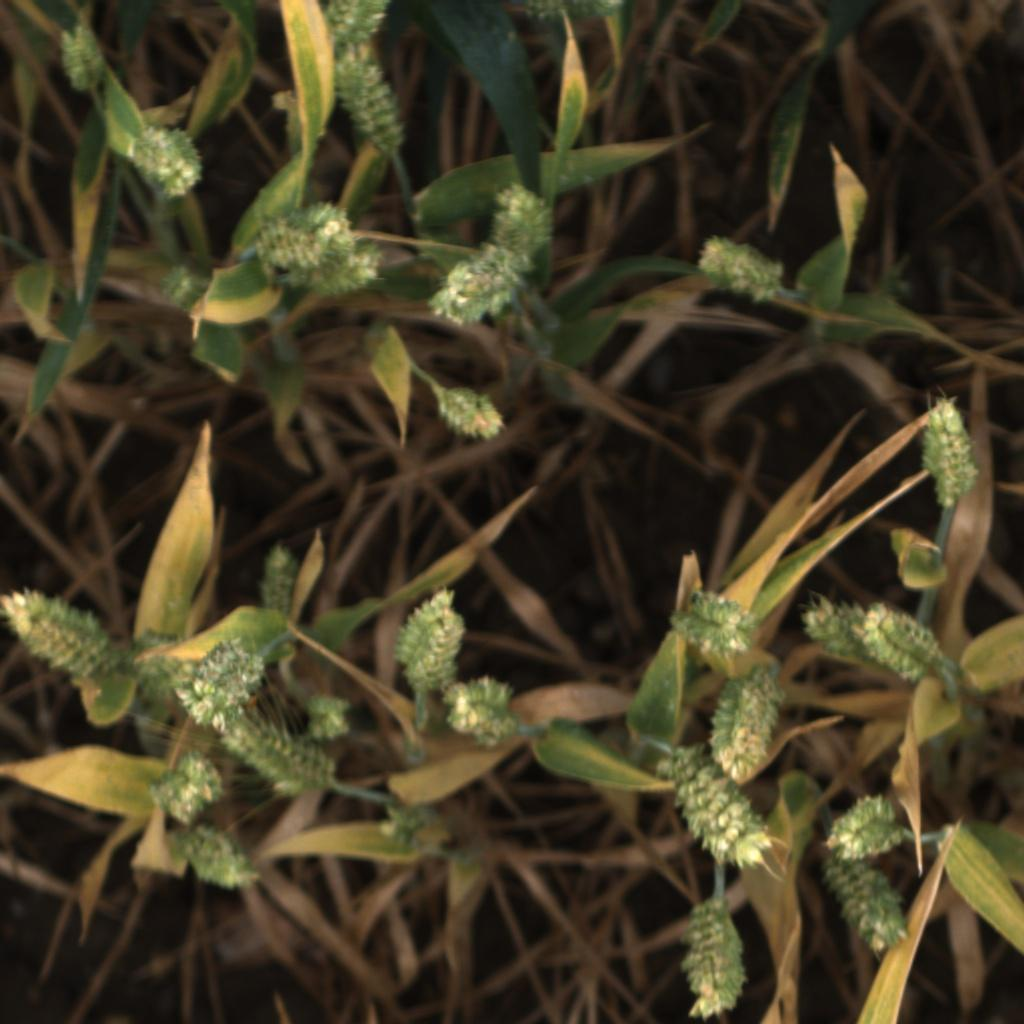0-0: (656, 741, 781, 869), (0, 582, 121, 680), (216, 712, 344, 801), (179, 635, 274, 736), (704, 665, 785, 782), (330, 39, 411, 156), (676, 898, 749, 1023), (420, 247, 524, 334), (391, 585, 473, 695), (861, 599, 951, 690), (827, 868, 914, 958), (123, 124, 213, 207), (690, 235, 789, 307), (919, 393, 980, 508), (287, 241, 394, 304), (252, 201, 350, 268), (440, 674, 522, 752), (668, 592, 762, 660), (177, 823, 266, 893), (492, 172, 561, 258), (823, 790, 901, 866), (149, 747, 224, 824), (796, 594, 876, 657), (48, 24, 116, 97), (433, 386, 510, 448), (370, 794, 444, 857), (156, 252, 220, 321), (256, 538, 308, 622), (15, 769, 83, 827), (319, 0, 389, 55), (307, 693, 358, 743), (569, 0, 625, 23), (518, 0, 570, 24)
